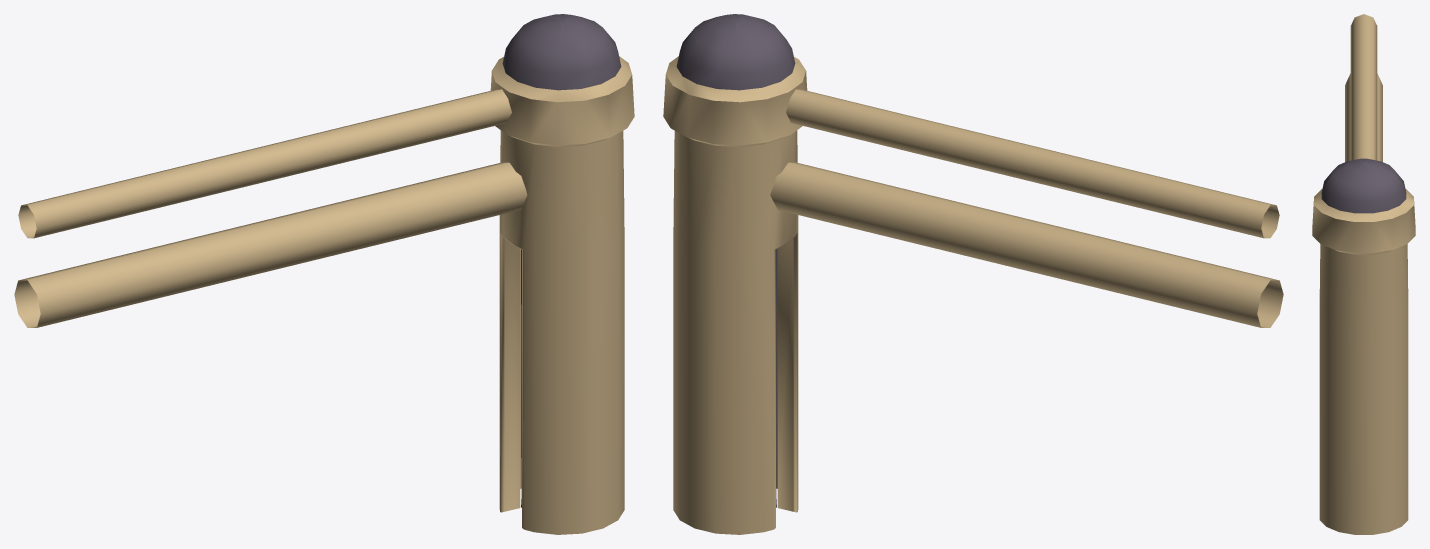
File: Mesh_Barrier_Pilar.fbx
3 views of the same model, side by side, from view 1: azimuth 30°, elevation 25°; view 2: azimuth 150°, elevation 25°; view 3: azimuth 270°, elevation 25° (orthographic). The views are drawn at different scales.
Visible parts, largest first — view 1: Barrier_Side; view 2: Barrier_Side; view 3: Barrier_Side.
Boxes of the visible parts, box(x1,y1,x2,y2) form: Barrier_Side: box(14, 14, 634, 534); Barrier_Side: box(663, 14, 1283, 534); Barrier_Side: box(1312, 14, 1415, 534).
Size of the model in its own units: 192 by 150 by 39.91.
